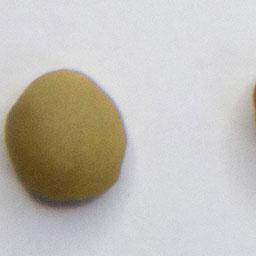defect: (3, 67, 130, 205)
